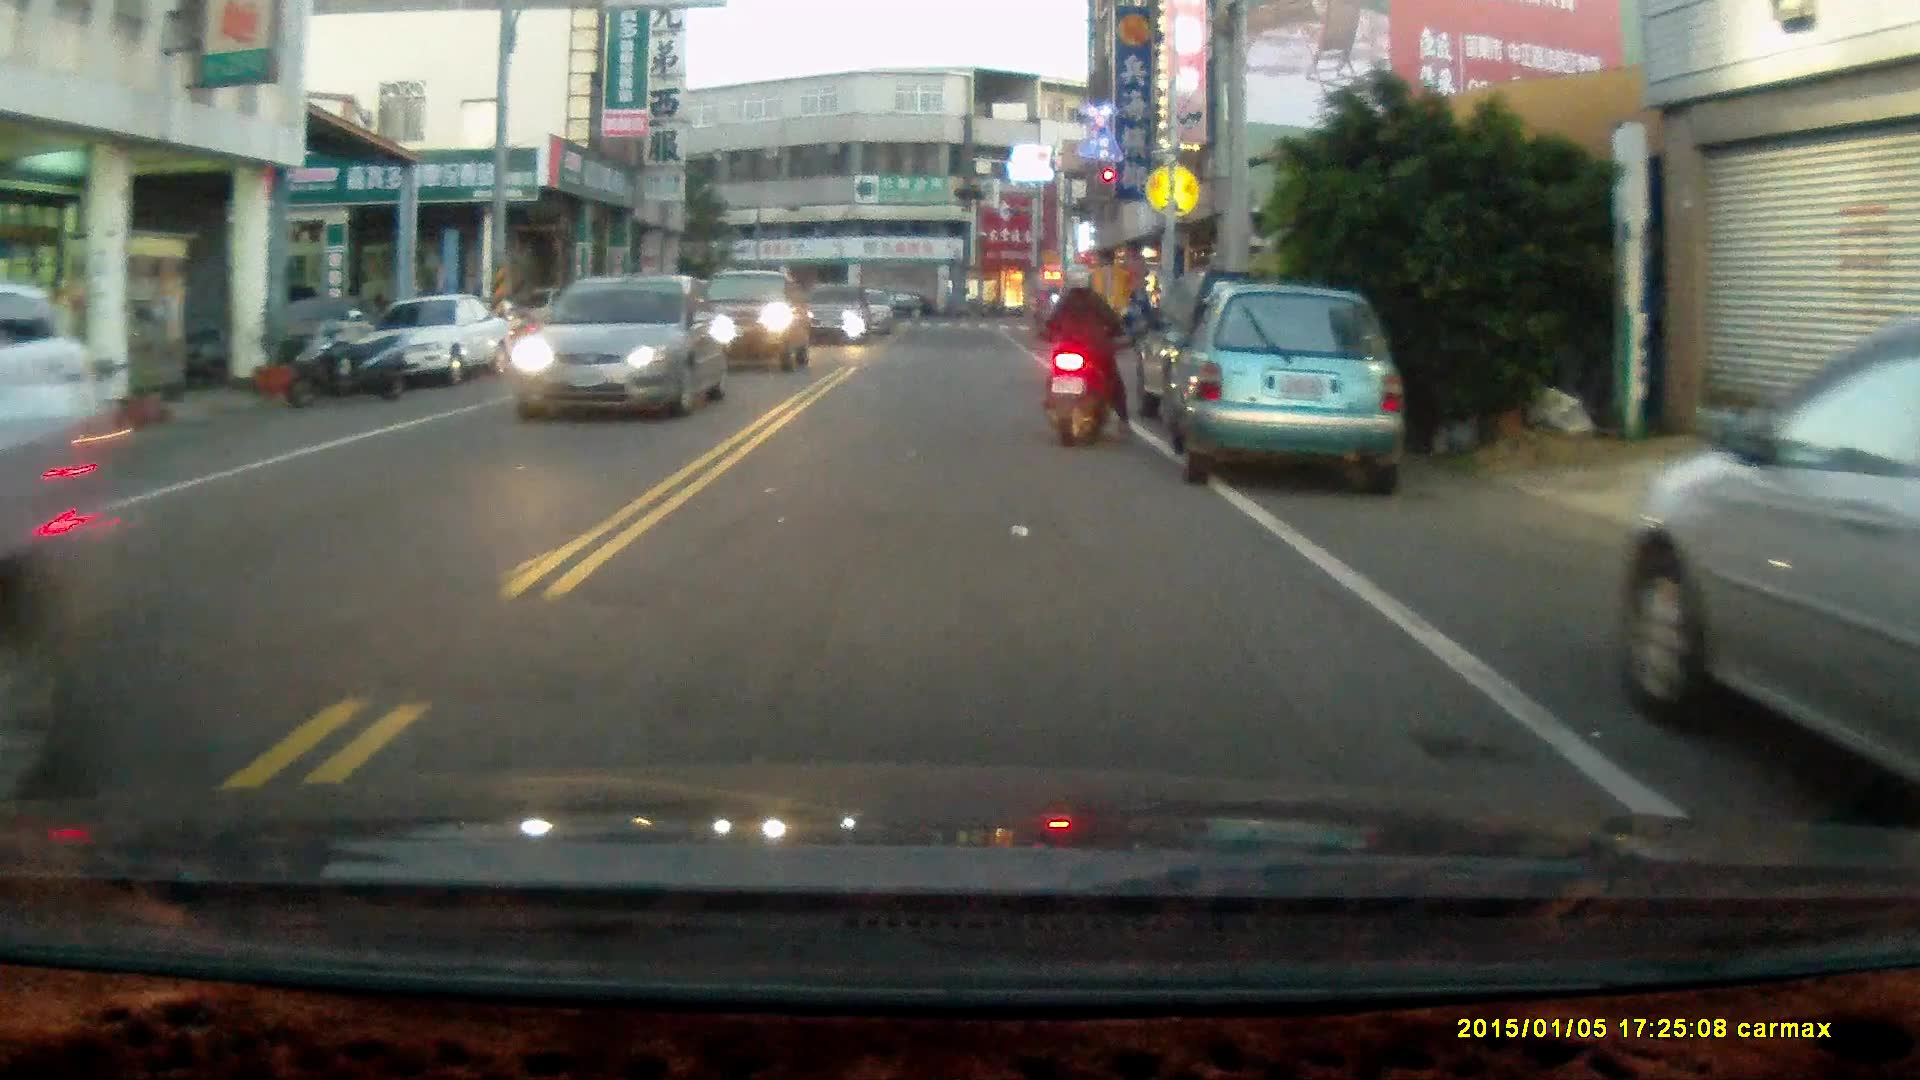rider: (1036, 264, 1132, 446)
vehicle: (1623, 338, 1920, 799), (1167, 281, 1411, 495), (514, 276, 729, 423), (357, 294, 521, 388), (687, 271, 820, 377)
